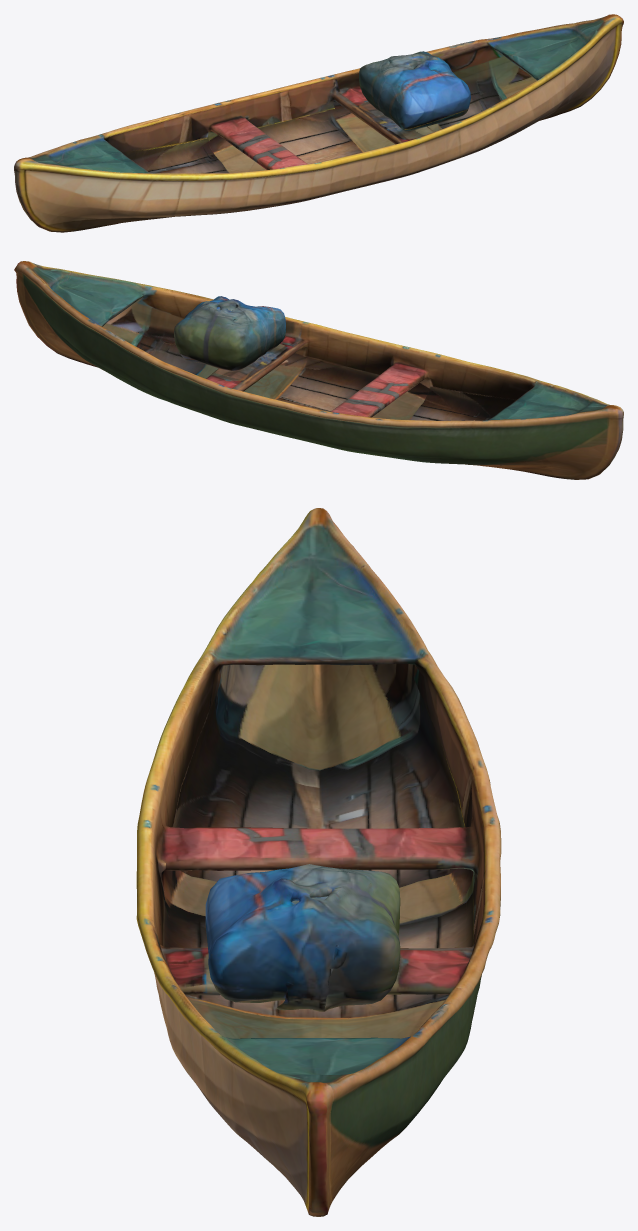
Rendered from aiCanoe.glb.
3 renders of one model, top to bottom at view 1: azimuth 30°, elevation 25°; view 2: azimuth 150°, elevation 25°; view 3: azimuth 270°, elevation 25°, orthographic. The views are drawn at different scales.
Size of the model in its own units: 2 by 0.2932 by 0.5196.
1 material, 1 textured.
